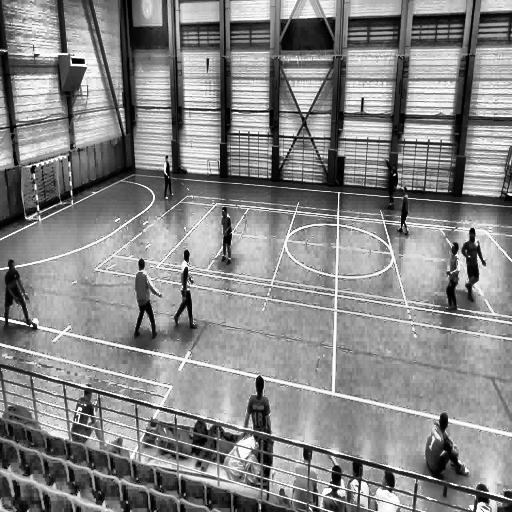ball: (31, 317, 39, 329)
player: (245, 374, 272, 460), (134, 257, 162, 338), (3, 254, 30, 332), (174, 248, 198, 328), (461, 228, 486, 303), (445, 242, 462, 310), (220, 205, 233, 265), (397, 186, 409, 233), (163, 154, 174, 197), (386, 164, 396, 207)
